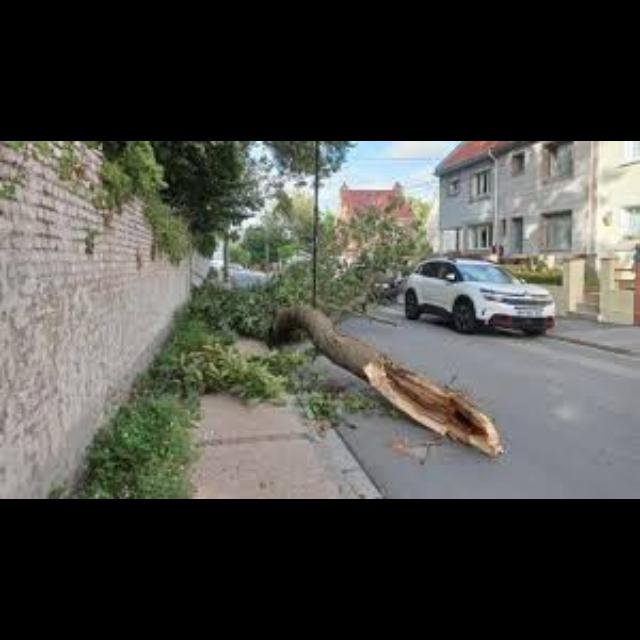Fallen Tree: (261, 296, 505, 458)
